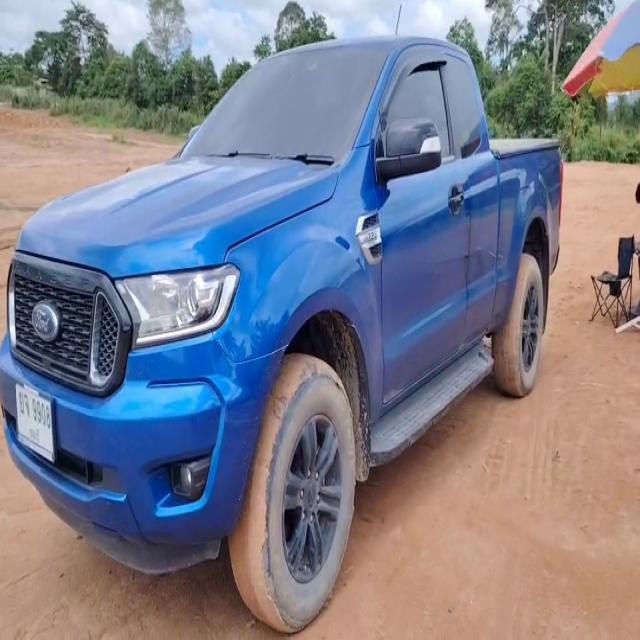Digit: (31, 398, 51, 431)
Licenseplate: (17, 383, 55, 464)
Provincename: (29, 427, 41, 445)
Thaichar: (18, 390, 31, 417)
